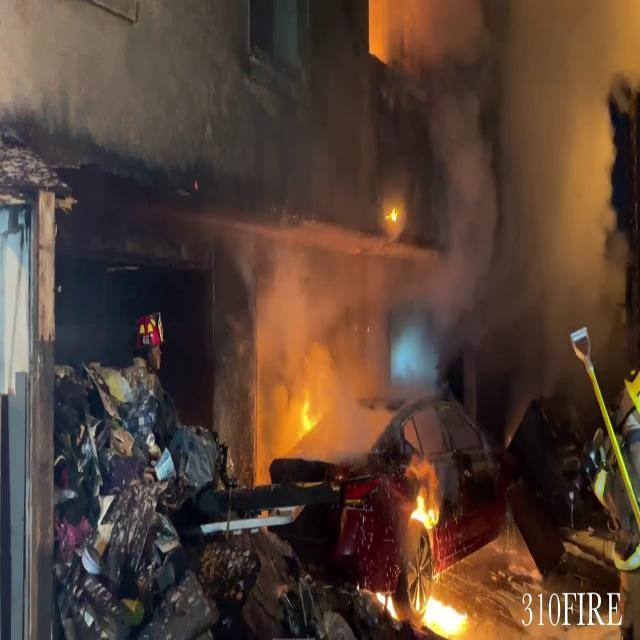Fire: (382, 580, 480, 638), (410, 583, 478, 637)
Smoke: (219, 0, 640, 398)
